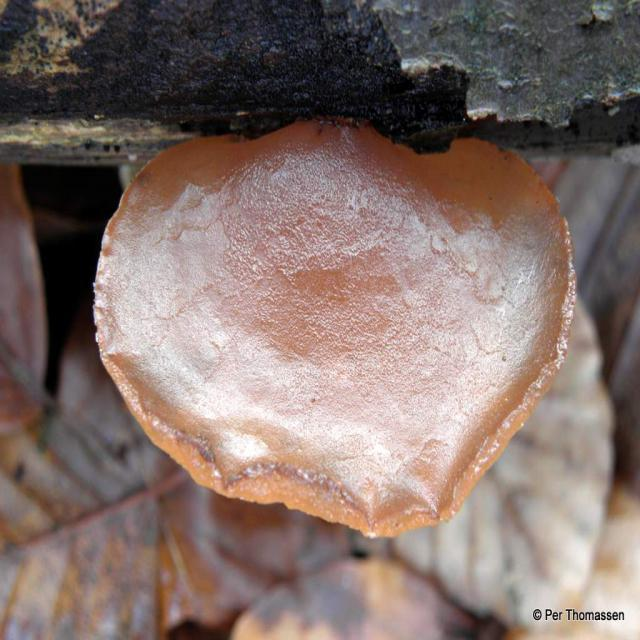Auricularia auricula: (95, 120, 577, 538)
